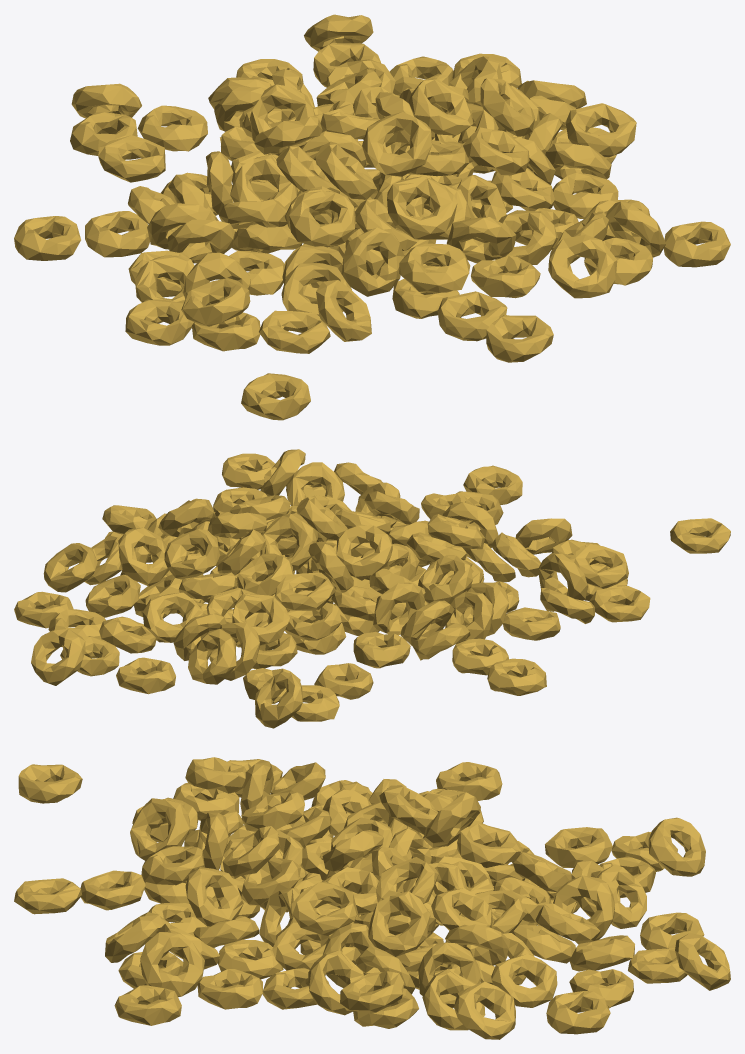
Rendered from Cheerios.fbx.
The picture shows the model from 3 angles, top to bottom: view 1: azimuth 30°, elevation 25°; view 2: azimuth 150°, elevation 25°; view 3: azimuth 270°, elevation 25°; orthographic projection. The views are drawn at different scales.
Visible parts, largest first — view 1: Piece.057, Piece.021, Piece.019, Piece.058, Piece.020, Piece.055, Piece.017, Piece.052, Piece.004, Piece.070, Piece.093, Piece.071 (+67 smaller); view 2: Piece.037, Piece.006, Piece.028, Piece.029, Piece.041, Piece.034, Piece.032, Piece.044, Piece.045, Piece.071, Piece.035, Piece.083 (+63 smaller); view 3: Piece.005, Piece.023, Piece.032, Piece.034, Piece.025, Piece.053, Piece.069, Piece.088, Piece.086, Piece.037, Piece.044, Piece.040 (+71 smaller).
Boxes of the visible parts, x1,y1,x2,y2 form: Piece.057: (387,176,457,239); Piece.021: (548,234,617,298); Piece.019: (362,112,431,176); Piece.058: (341,227,404,296); Piece.020: (289,191,355,246); Piece.055: (399,243,470,292); Piece.017: (566,103,636,157); Piece.052: (486,315,553,362); Piece.004: (408,77,473,135); Piece.070: (241,373,310,420); Piece.093: (663,221,730,267); Piece.071: (14,216,80,260); Piece.037: (31,629,85,685); Piece.006: (336,525,392,580); Piece.028: (118,527,169,586); Piece.029: (164,529,219,579); Piece.041: (188,629,236,684); Piece.034: (255,671,302,728); Piece.032: (43,543,97,592); Piece.044: (274,572,335,610); Piece.045: (418,555,472,604); Piece.071: (487,658,546,695); Piece.035: (142,592,203,642); Piece.083: (232,593,289,645); Piece.005: (368,891,430,956); Piece.023: (140,932,204,996); Piece.032: (454,981,515,1039); Piece.034: (648,817,705,876); Piece.025: (291,881,357,935); Piece.053: (185,867,243,926); Piece.069: (130,798,189,860); Piece.088: (491,954,557,1007); Piece.086: (546,991,610,1034); Piece.037: (675,933,730,990); Piece.044: (457,823,521,867); Piece.040: (545,827,612,867).
Size of the model in its own units: 1560 by 286 by 1757.
